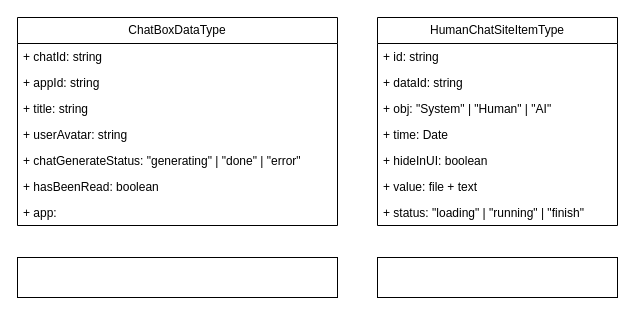
This 635x315 diagram has some shape labels left out. Here are the shapes that lost their labels. From the top down, the centre of each, then its label:
At (177,277): "单局聊天 -> N 条对话记录".
At (497,277): "单条对话记录".
